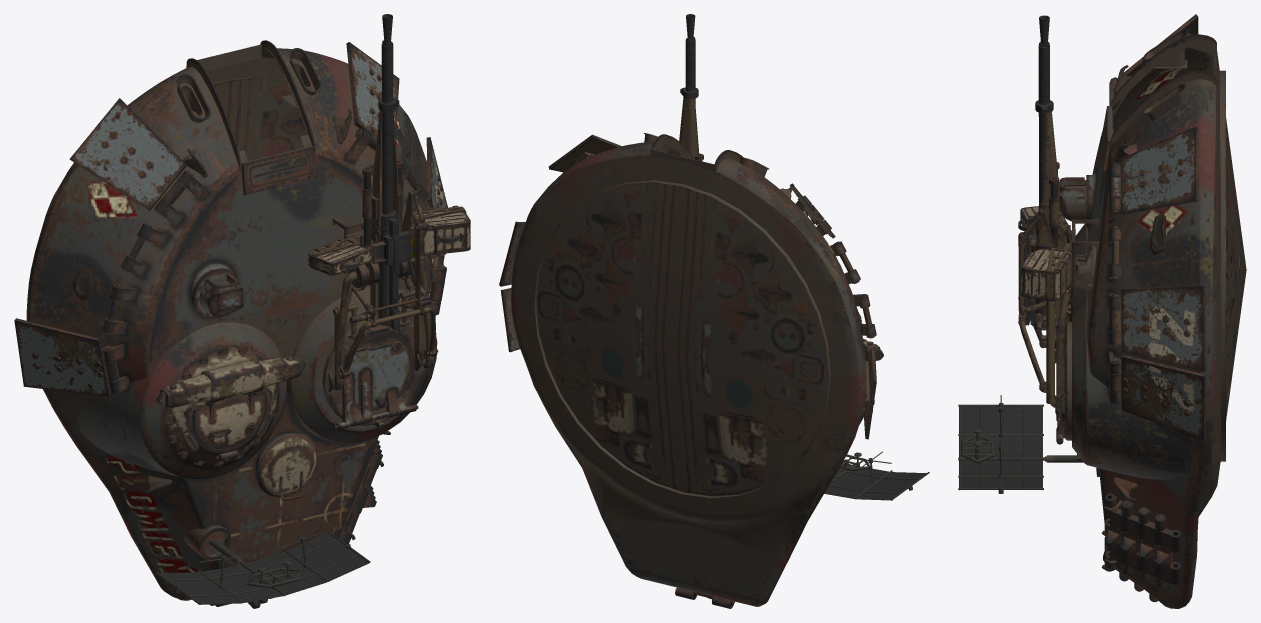
The model's file is Turret_02.glb.
3 views of the same model, side by side, from view 1: azimuth 30°, elevation 25°; view 2: azimuth 150°, elevation 25°; view 3: azimuth 270°, elevation 25° (orthographic). The views are drawn at different scales.
Visible parts, largest first — view 1: set_0_group_0, set_0_group_1, set_0_group_3, set_0_group_2; view 2: set_0_group_0, set_0_group_1, set_0_group_3; view 3: set_0_group_0, set_0_group_1, set_0_group_3, set_0_group_2.
Boxes of the visible parts, x1,y1,x2,y2 form: set_0_group_0: (26, 40, 446, 600); set_0_group_1: (14, 14, 470, 608); set_0_group_3: (156, 529, 370, 604); set_0_group_2: (72, 127, 409, 299); set_0_group_0: (511, 133, 883, 606); set_0_group_1: (499, 14, 876, 608); set_0_group_3: (824, 451, 929, 500); set_0_group_0: (1055, 28, 1246, 608); set_0_group_1: (1018, 14, 1206, 602); set_0_group_3: (958, 395, 1083, 493); set_0_group_2: (1149, 214, 1165, 254).
Bounding box in the file's own units: 2.96 × 3.99 × 1.7.
4 materials, 4 textured.
